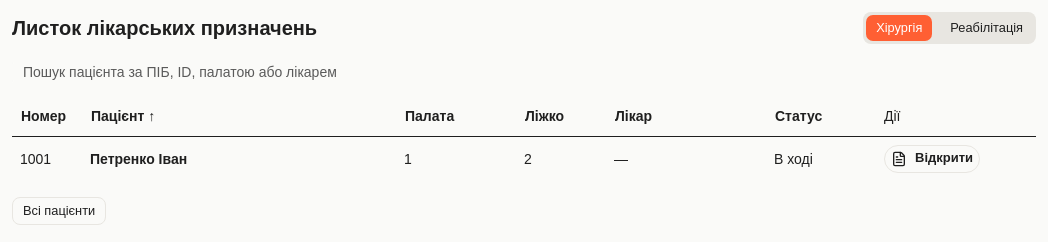
Test case: PrescriptionPage › toggle splits surgery (19) and rehab (37) and persists the choice
The width and height of the screenshot is (1048, 242).
Expected: the text "Петренко Іван" is shown, [90,150,187,166]
Expected: the text "Коваленко Олена" is not shown
Click the button "Реабілітація" at (987, 28), box [939,14,1034,42]
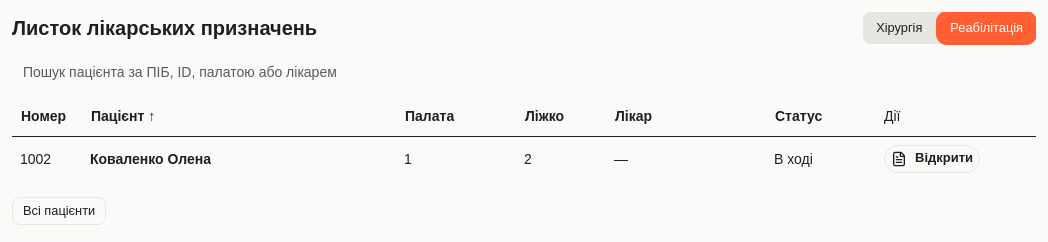
Now the text "Коваленко Олена" is shown, box [90,150,211,166]
Now the text "Петренко Іван" is gone
